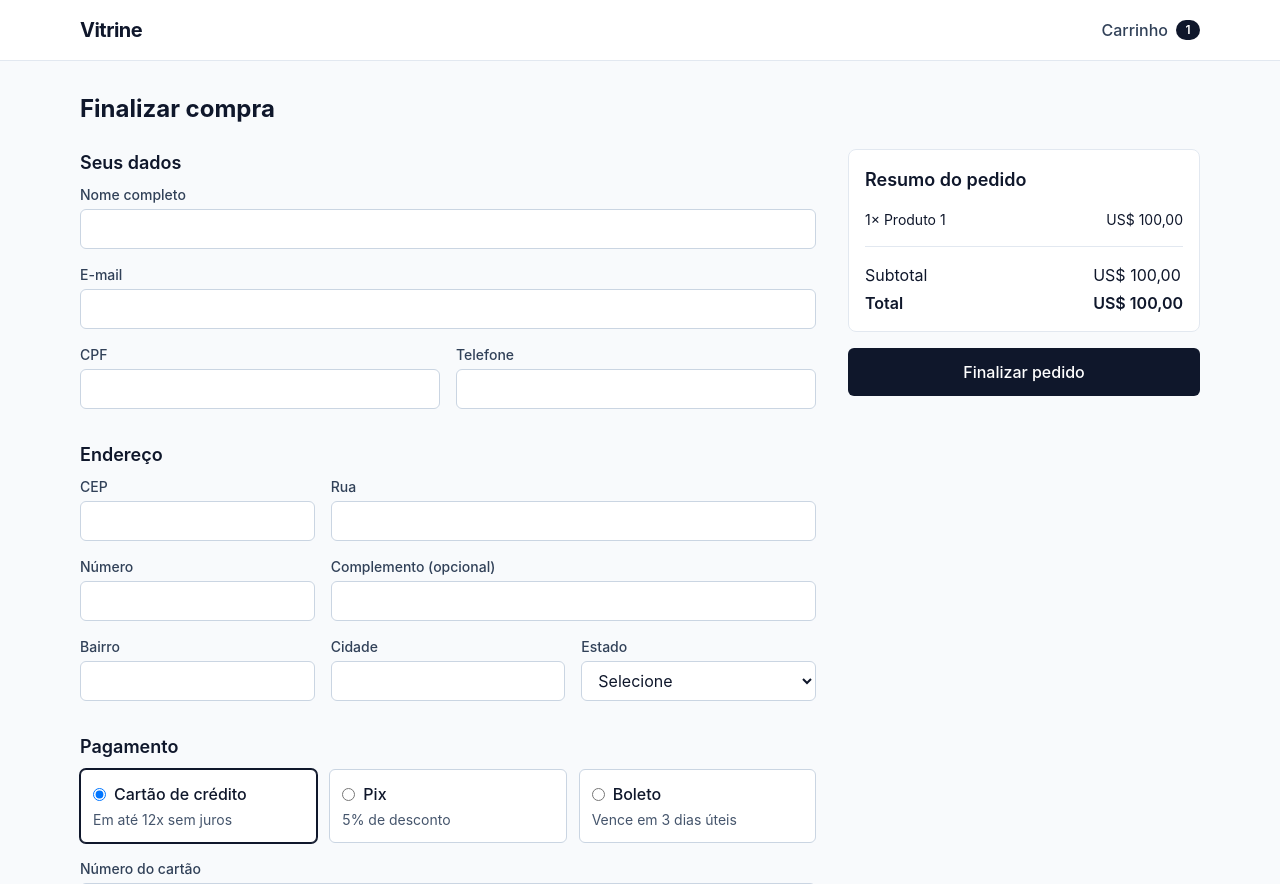
it: CheckoutPage › campos de cartão só aparecem com cartão
Expected: the heading "Finalizar compra" is shown, left=80, top=94, right=275, bottom=123
Expected: the 3rd text "US$ 100,00" is shown, left=1093, top=291, right=1183, bottom=315
What coordinates should you click on to do the following:
click the radio button labelled "Pix"
I would click on:
 (349, 794)
Its box is left=342, top=788, right=355, bottom=800.
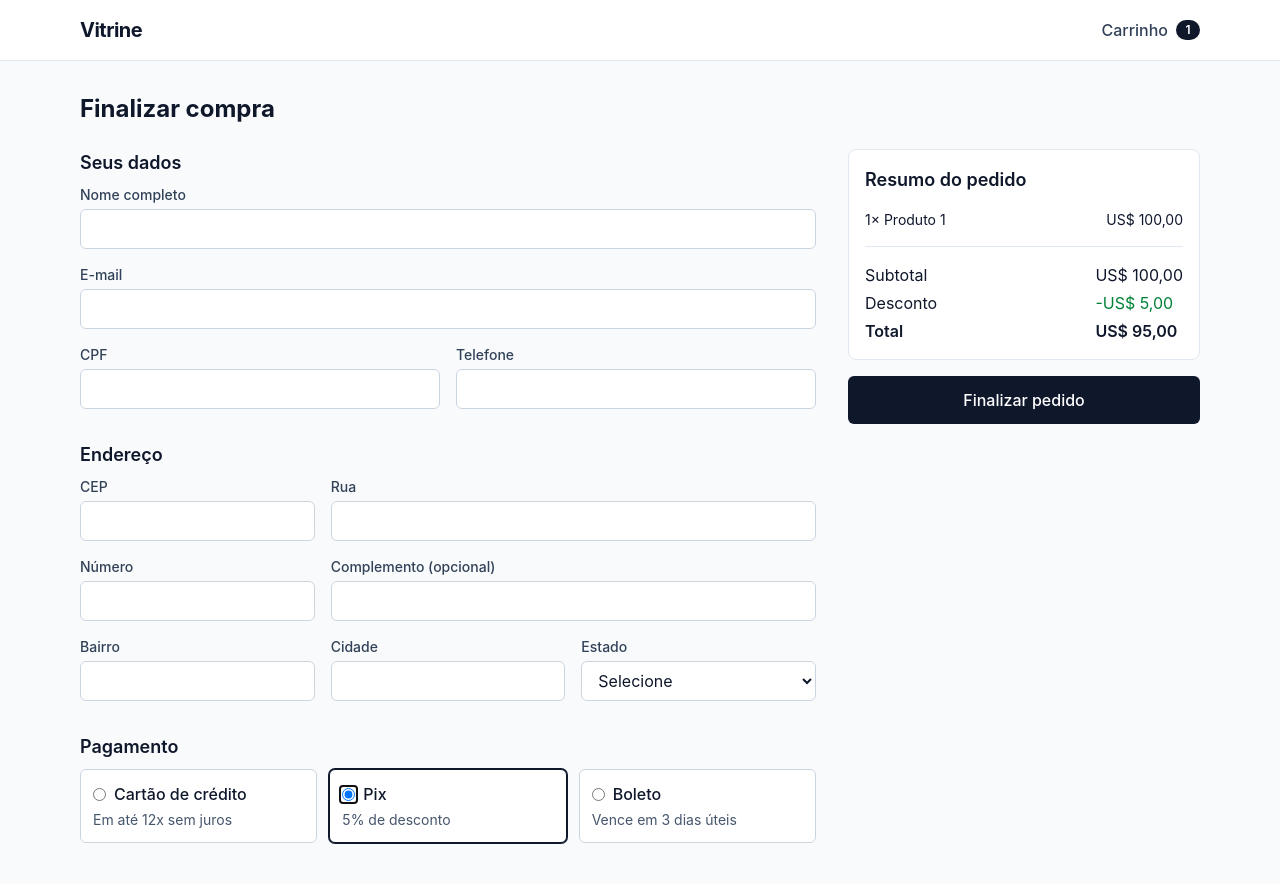
Expected: the label labelled "Número do cartão" is gone
Expected: the text "-US$ 5,00" is shown, left=1095, top=291, right=1183, bottom=315
Expected: the text "US$ 95,00" is shown, left=1095, top=319, right=1183, bottom=343
